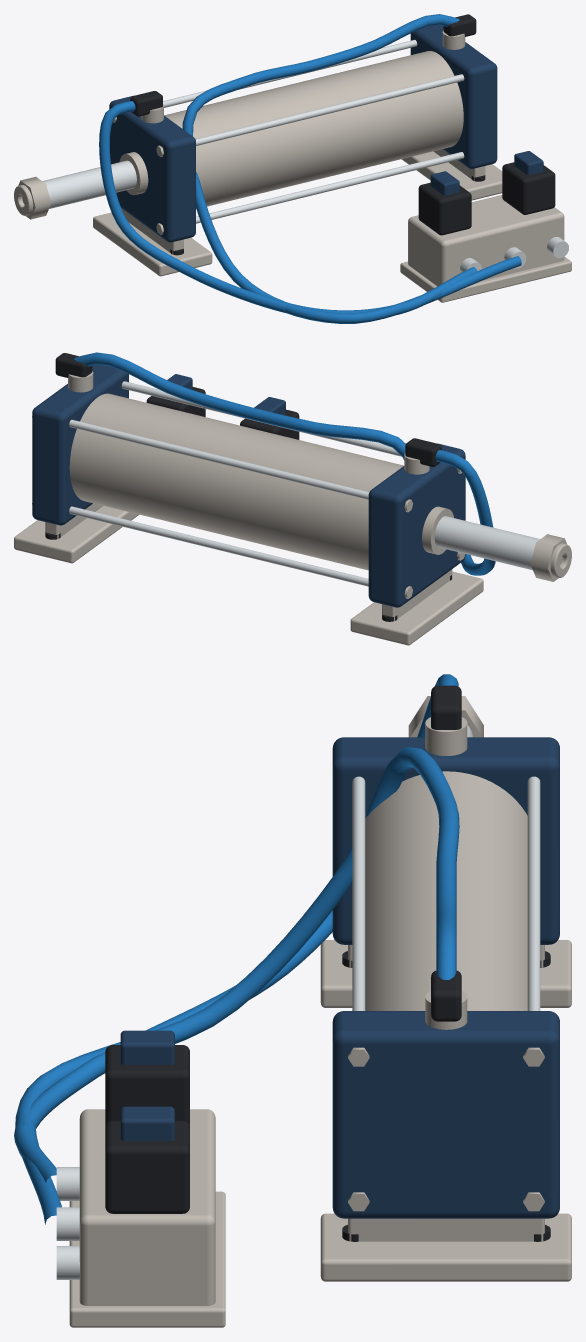
The model's file is robots-52.glb.
3 views of the same model, one above another, from view 1: azimuth 30°, elevation 25°; view 2: azimuth 150°, elevation 25°; view 3: azimuth 270°, elevation 25° (orthographic). The views are drawn at different scales.
Visible parts, largest first — view 1: barrel, ends, tubing, valve, solenoids, tie-rods, supports, rod, fittings, rod-fitting, ports; view 2: barrel, ends, supports, tie-rods, tubing, rod, fittings, solenoids, rod-fitting; view 3: ends, barrel, valve, supports, tubing, solenoids, tie-rods, fittings, ports, rod-fitting.
Part boxes in pixels (x1,y1,x2,y2): barrel: [164, 51, 463, 208]; ends: [109, 25, 497, 242]; tubing: [99, 14, 521, 323]; valve: [400, 195, 571, 302]; solenoids: [418, 151, 555, 235]; tie-rods: [113, 39, 464, 234]; supports: [93, 149, 502, 276]; rod: [42, 152, 148, 208]; fittings: [130, 14, 476, 123]; rod-fitting: [14, 176, 51, 219]; ports: [460, 237, 568, 272]; barrel: [69, 393, 403, 570]; ends: [32, 364, 465, 607]; supports: [14, 503, 483, 645]; tie-rods: [32, 381, 464, 598]; tubing: [74, 352, 495, 575]; rod: [422, 506, 539, 570]; fittings: [55, 353, 441, 474]; solenoids: [146, 374, 299, 439]; rod-fitting: [530, 534, 571, 581]; ends: [332, 737, 559, 1218]; barrel: [365, 771, 527, 1010]; valve: [69, 1109, 225, 1327]; supports: [320, 940, 571, 1281]; tubing: [14, 674, 459, 1224]; solenoids: [105, 1030, 189, 1213]; tie-rods: [348, 776, 544, 1211]; fittings: [425, 685, 467, 1029]; ports: [56, 1167, 79, 1279]; rod-fitting: [408, 696, 483, 737].
Size of the model in its own units: 2.91 by 1.16 by 1.64.
